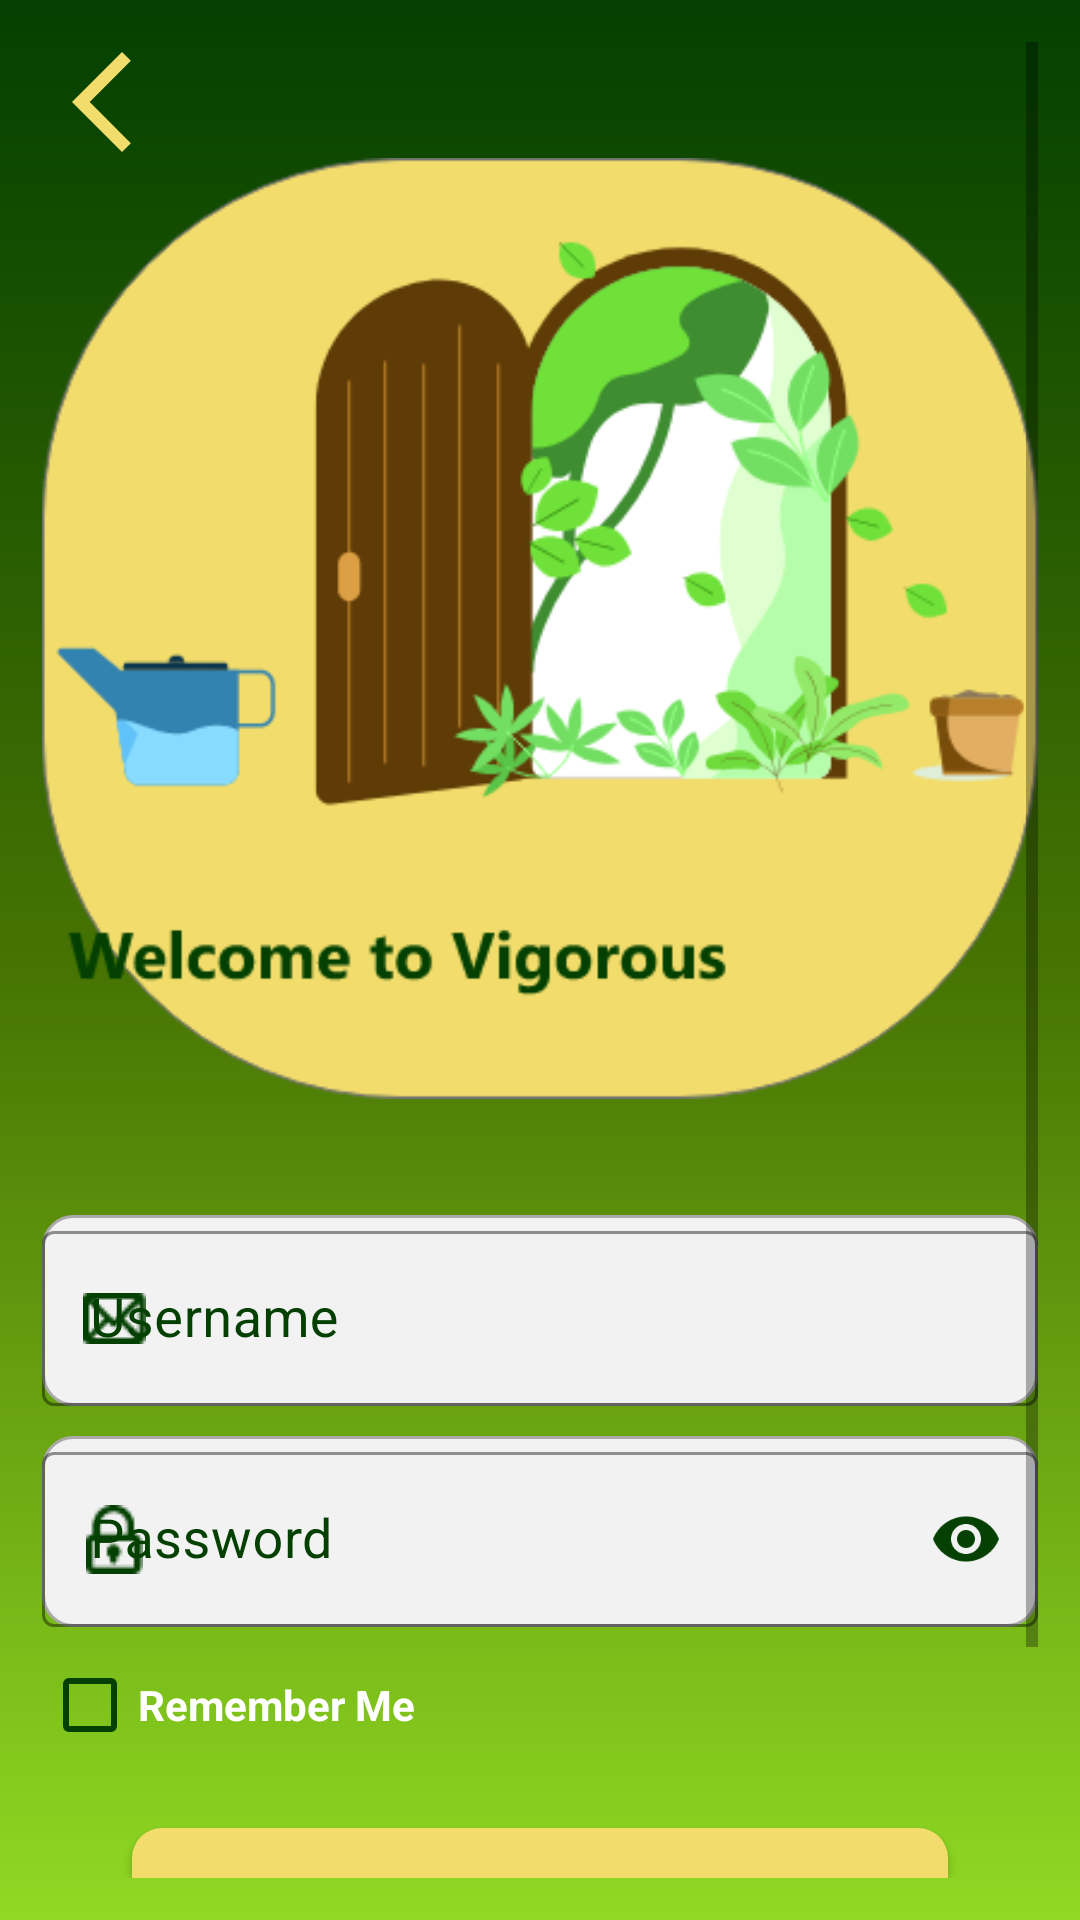

Screen size 1080 × 1920. Icon name, then its box in pixels as region(x1, y1, x2, y2):
arrow back: region(72, 52, 131, 152)
